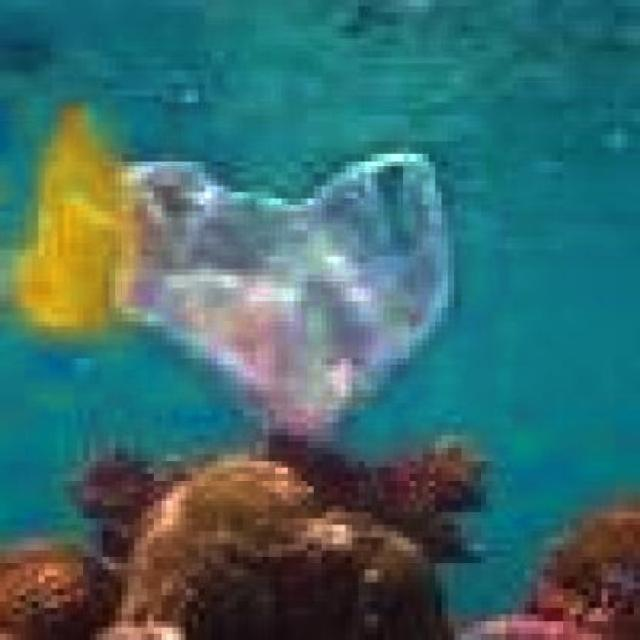pbag: (6, 96, 462, 442)
